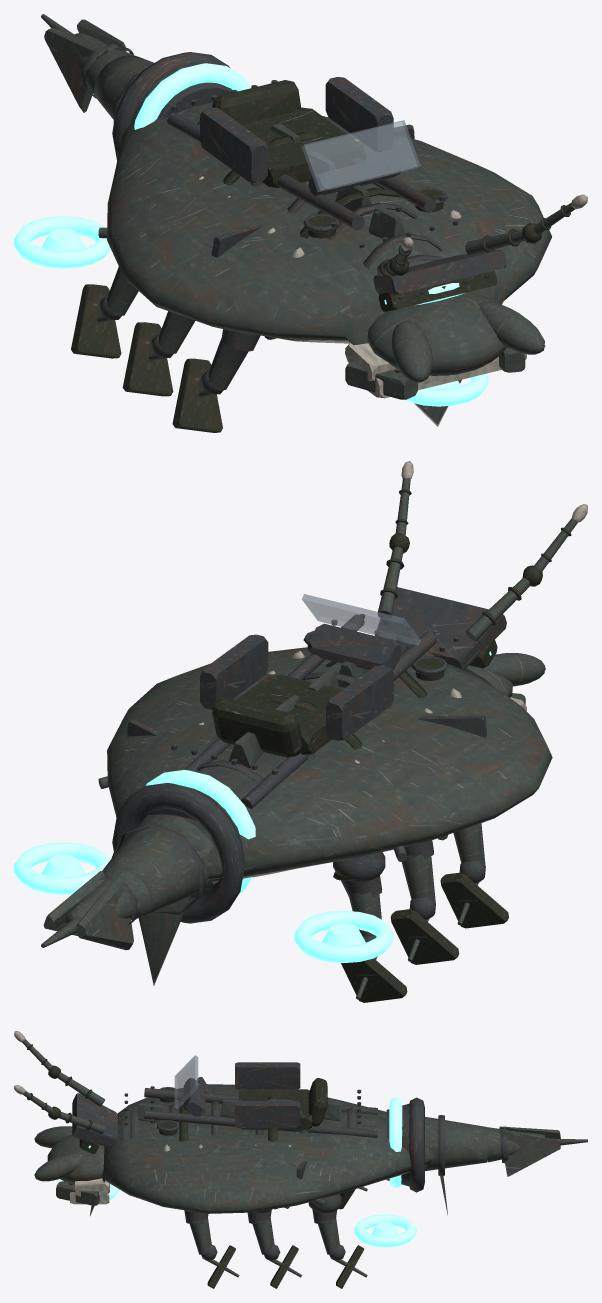
The model's file is combineSwimmer.glb.
3 renders of one model, top to bottom at view 1: azimuth 30°, elevation 25°; view 2: azimuth 150°, elevation 25°; view 3: azimuth 270°, elevation 25°, orthographic. The views are drawn at different scales.
Parts seen in each view (by area): view 1: combineSwimmer_body, swimmer_head_mesh, combineSwimmer_visor, swimmer_oar_left_0, stabilizer_rear_left, swimmer_oar_left_1, swimmer_oar_left_2, swimmer_jaw, fan_main, rudder_left, swimmer_head_lod1_mesh, swimmer_tail_0_mesh (+5 smaller); view 2: combineSwimmer_body, swimmer_tail_0_mesh, swimmer_head_mesh, swimmer_oar_left_1, stabilizer_rear_left, swimmer_oar_left_0, stabilizer_rear_right, swimmer_oar_left_2, combineSwimmer_visor, rudder_left, swimmer_tail_1_mesh, fan_main (+7 smaller); view 3: combineSwimmer_body, swimmer_head_mesh, swimmer_tail_0_mesh, stabilizer_rear_right, swimmer_oar_right_2, swimmer_oar_right_1, swimmer_oar_right_0, rudder_right, swimmer_head_lod1_mesh, swimmer_tail_1_mesh, combineSwimmer_visor, fan_main (+5 smaller).
Boxes of the visible parts, x1,y1,x2,y2 form: combineSwimmer_body: (98,52,551,426); swimmer_head_mesh: (345,249,544,382); combineSwimmer_visor: (302,120,420,192); swimmer_oar_left_0: (172,329,260,432); stabilizer_rear_left: (14,216,110,268); swimmer_oar_left_1: (122,311,195,396); swimmer_oar_left_2: (71,266,138,358); swimmer_jaw: (345,347,526,399); fan_main: (134,63,250,129); rudder_left: (44,27,108,112); swimmer_head_lod1_mesh: (345,249,545,381); swimmer_tail_0_mesh: (94,55,153,122); combineSwimmer_body: (98,614,552,985); swimmer_tail_0_mesh: (102,814,212,914); swimmer_head_mesh: (375,589,545,710); swimmer_oar_left_1: (390,840,459,964); stabilizer_rear_left: (294,910,393,962); swimmer_oar_left_0: (440,823,508,928); stabilizer_rear_right: (14,842,109,894); swimmer_oar_left_2: (333,871,407,1002); combineSwimmer_visor: (302,594,420,645); rudder_left: (76,876,133,950); swimmer_tail_1_mesh: (41,868,151,947); fan_main: (145,770,255,893); combineSwimmer_body: (90,1062,447,1216); swimmer_head_mesh: (34,1093,128,1196); swimmer_tail_0_mesh: (425,1115,487,1175); stabilizer_rear_right: (354,1214,416,1247); swimmer_oar_right_2: (309,1205,367,1288); swimmer_oar_right_1: (247,1210,302,1288); swimmer_oar_right_0: (184,1210,239,1288); rudder_right: (499,1131,560,1176); swimmer_head_lod1_mesh: (35,1093,116,1196); swimmer_tail_1_mesh: (487,1126,587,1163); combineSwimmer_visor: (174,1055,198,1109); fan_main: (389,1097,402,1187).
Size of what is drawn, in the model's own units: 2.16 by 1.6 by 4.39.
Materials: 3 (1 with a texture image).
